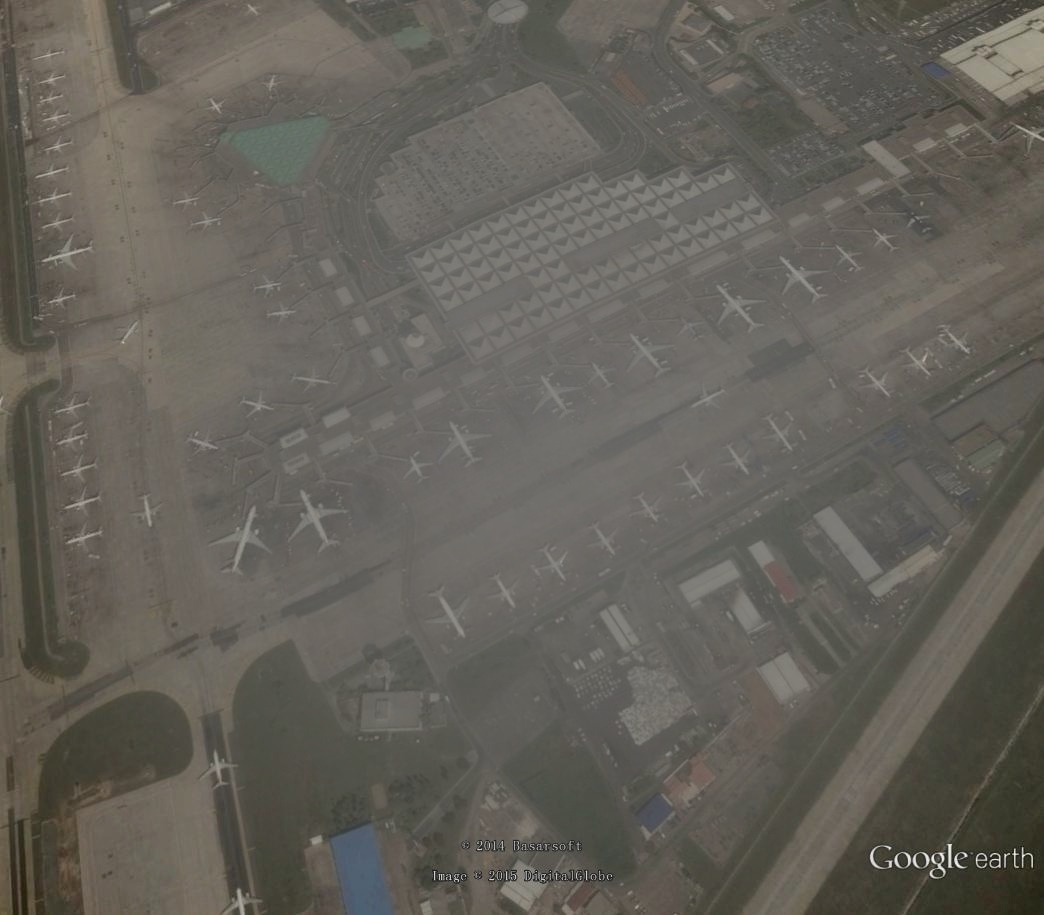aircraft: (202, 502, 274, 577), (284, 486, 352, 557), (421, 583, 473, 643), (775, 255, 833, 307), (439, 418, 494, 470), (622, 331, 679, 381), (530, 372, 587, 421), (711, 284, 768, 333), (39, 234, 95, 276), (196, 745, 241, 792), (669, 458, 711, 500), (757, 410, 797, 454), (532, 541, 572, 585), (64, 519, 106, 558), (59, 486, 105, 521), (485, 569, 521, 611), (126, 491, 164, 530), (625, 488, 663, 527), (716, 439, 753, 478), (857, 365, 894, 403), (288, 367, 340, 394), (691, 379, 731, 414), (933, 321, 973, 356), (236, 389, 279, 421), (897, 342, 934, 379), (59, 453, 99, 487), (217, 886, 265, 914), (585, 520, 621, 557), (833, 241, 869, 277), (584, 359, 621, 394), (1007, 118, 1042, 155), (53, 391, 91, 424), (403, 453, 438, 487), (56, 423, 91, 456), (903, 204, 936, 237), (31, 160, 72, 186), (32, 186, 76, 210), (39, 209, 76, 237), (250, 272, 285, 301), (675, 314, 711, 342), (870, 225, 901, 257), (181, 431, 220, 456), (264, 301, 301, 326), (255, 70, 286, 98), (188, 210, 222, 235), (42, 134, 77, 158), (47, 287, 78, 314), (170, 188, 201, 215), (114, 320, 144, 347), (36, 69, 70, 91), (32, 45, 69, 64), (199, 96, 227, 119), (39, 107, 71, 126), (240, 3, 270, 20), (38, 89, 66, 107)
